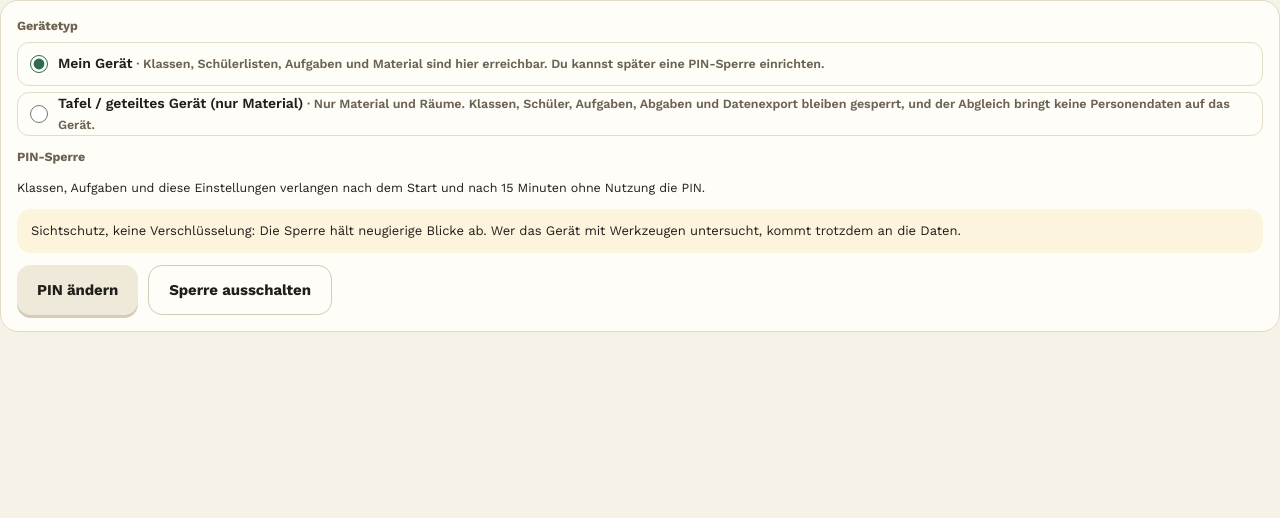
Test: DeviceSettingsCard › zeigt bei eingerichteter PIN Ändern und Ausschalten
This screenshot has width=1280, height=518.
Check: the field labelled "Neue PIN" is not shown
Click the button "Sperre ausschalten": (240, 290) 148,265 -> 332,315
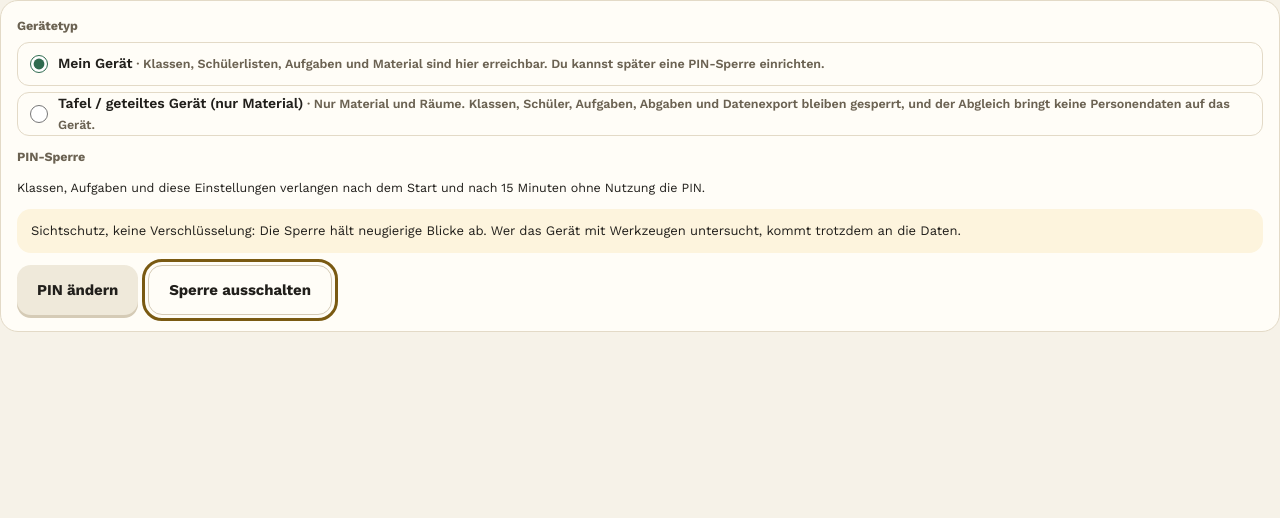
Click the button "PIN ändern": (78, 290) 17,265 -> 138,315
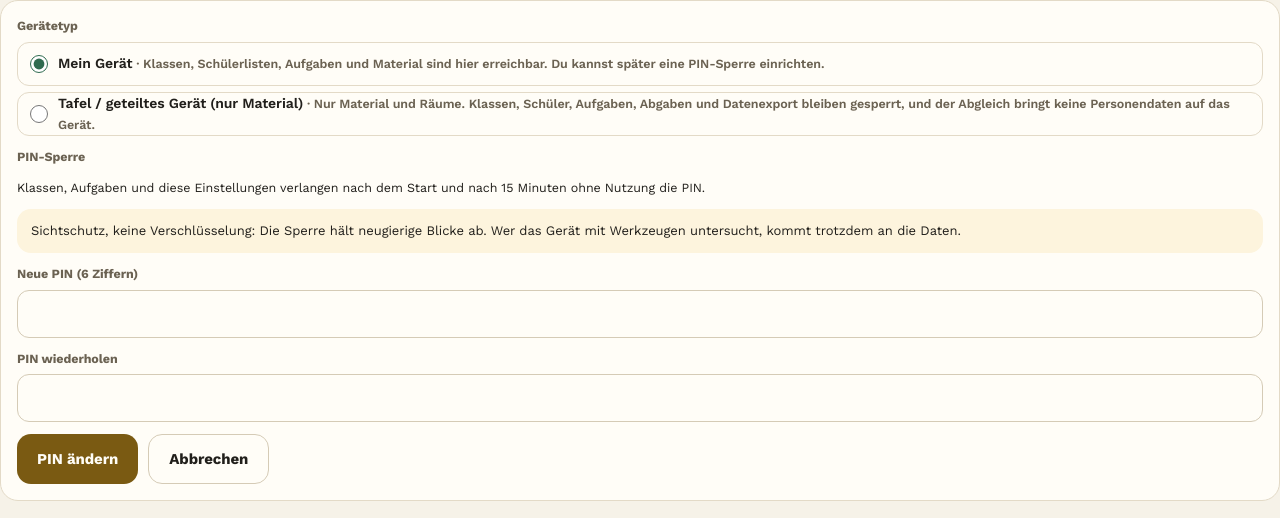
Check: the password field labelled "Neue PIN (6 Ziffern)" is shown, box 17,290 -> 1263,338
